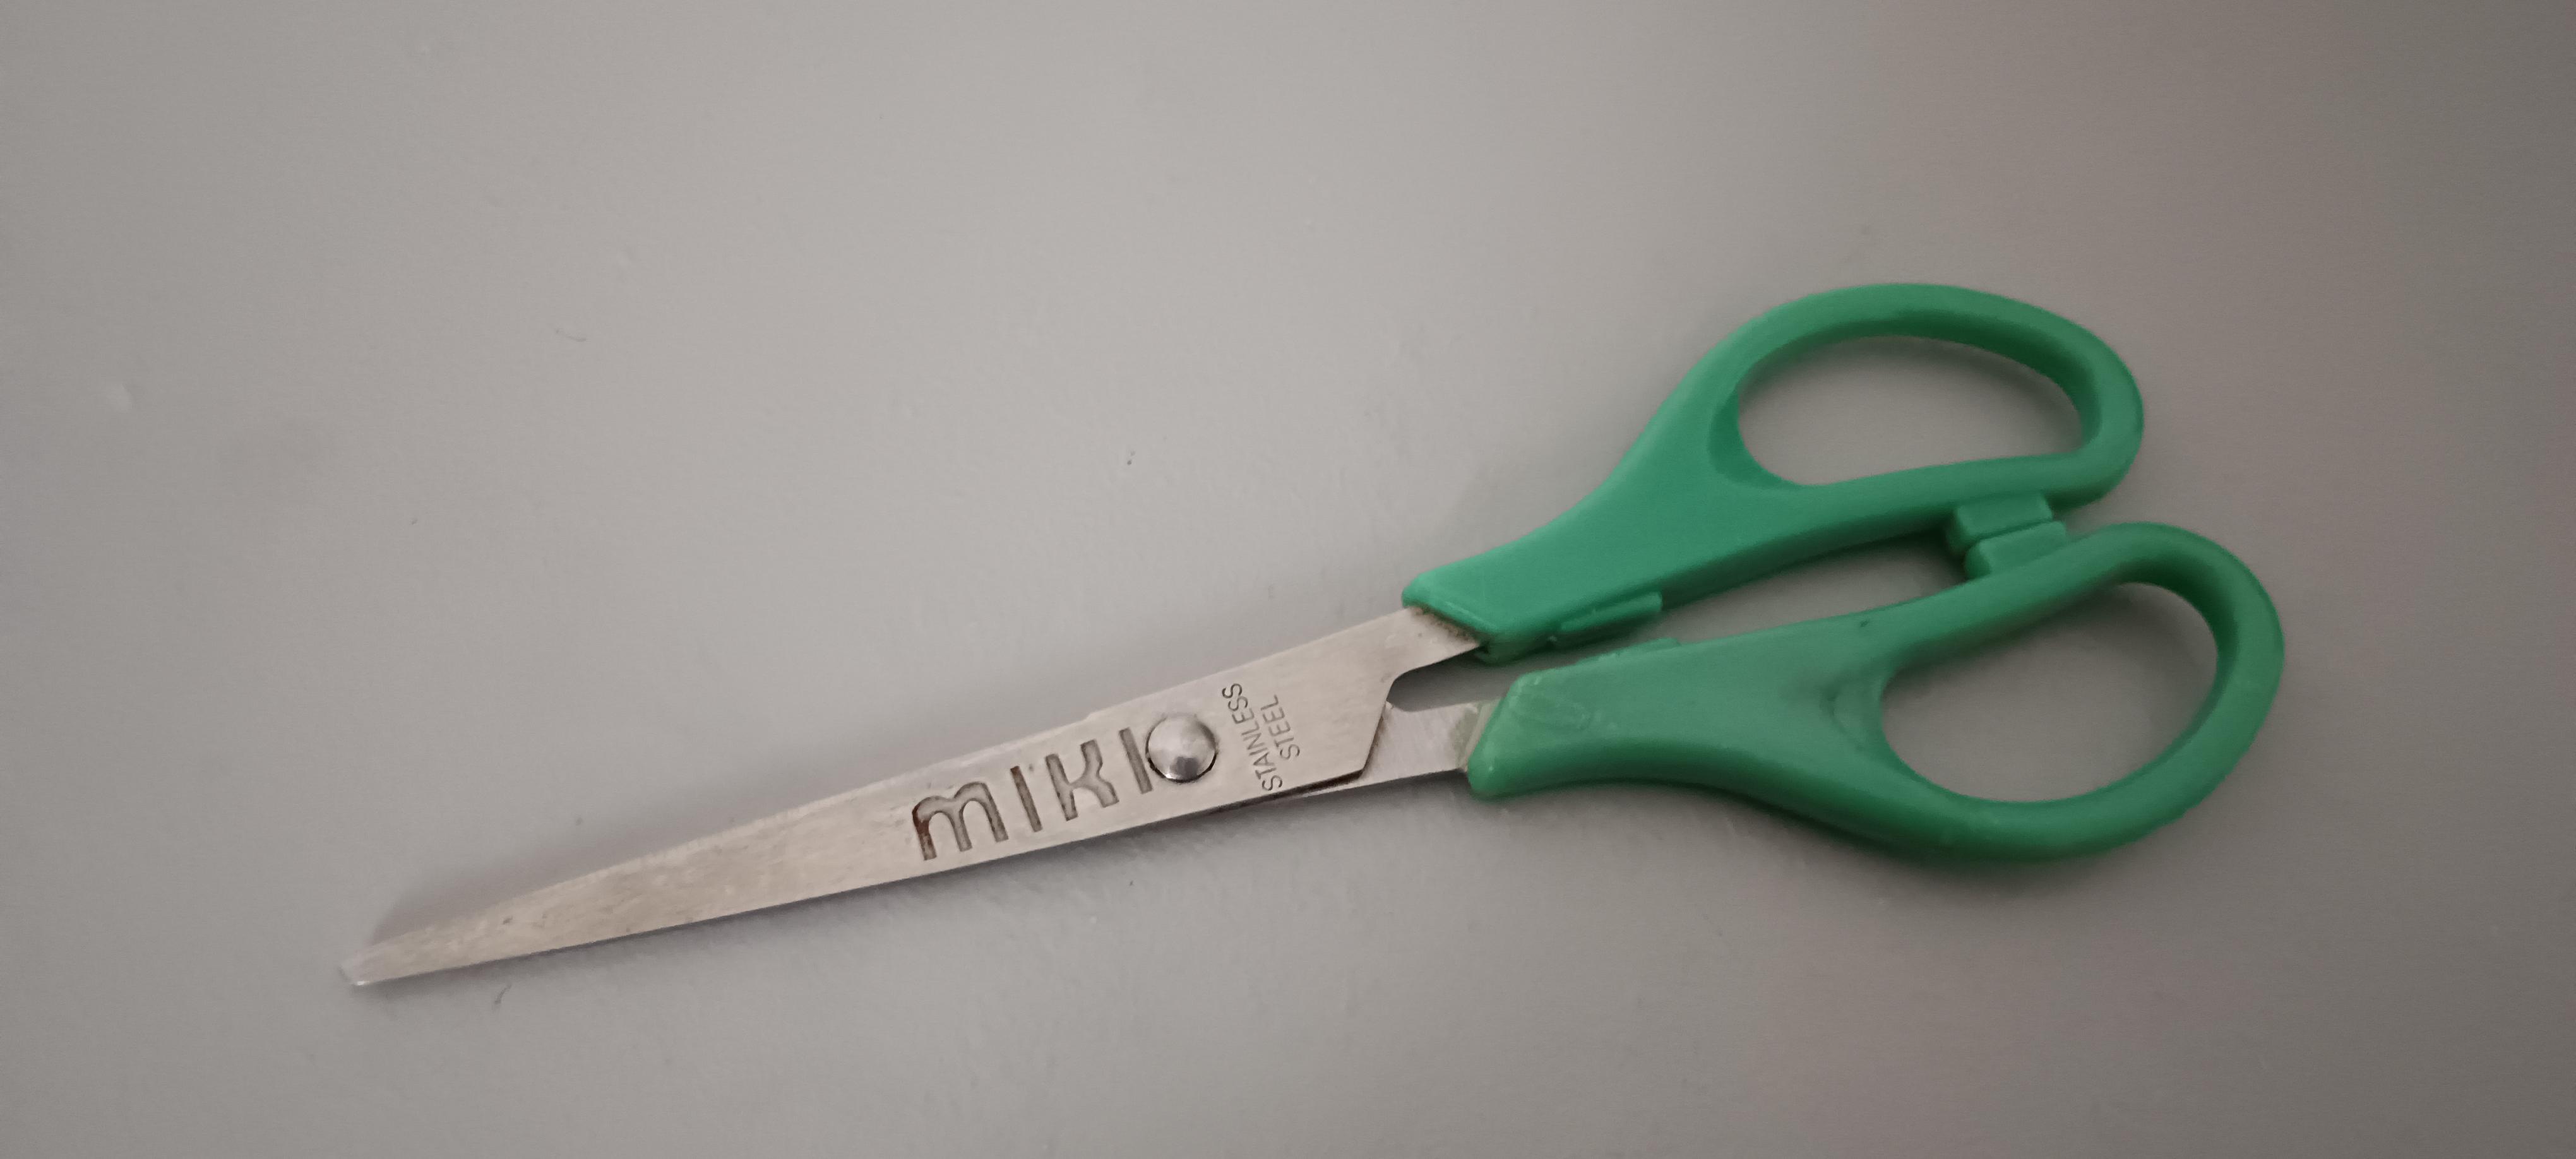Scissors: (286, 208, 2336, 1074)
